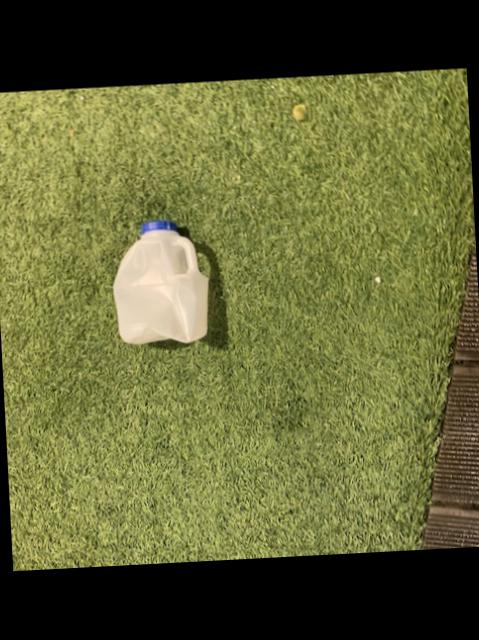plastic: (114, 222, 208, 345)
